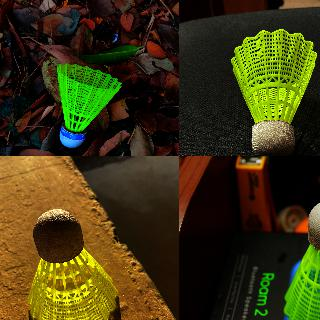shuttlecock: (230, 28, 317, 155), (27, 208, 117, 319), (56, 62, 122, 146), (282, 200, 319, 319)
